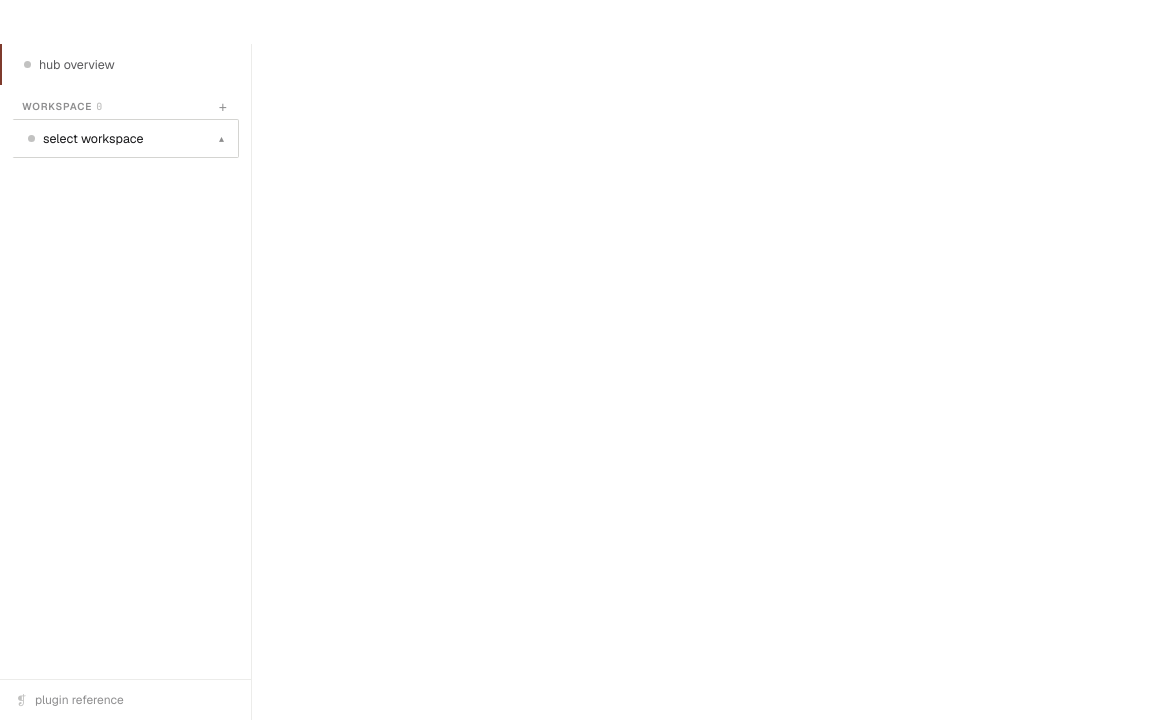
Scenario: SPEC-ui-008 — attach workspace modal dialog › SPEC-ui-008: clicking the + button opens a modal dialog titled "Attach workspace"
This screenshot has width=1152, height=720.
Click the button with class "sidenav-add" at (223, 107), box [217, 100, 229, 114]
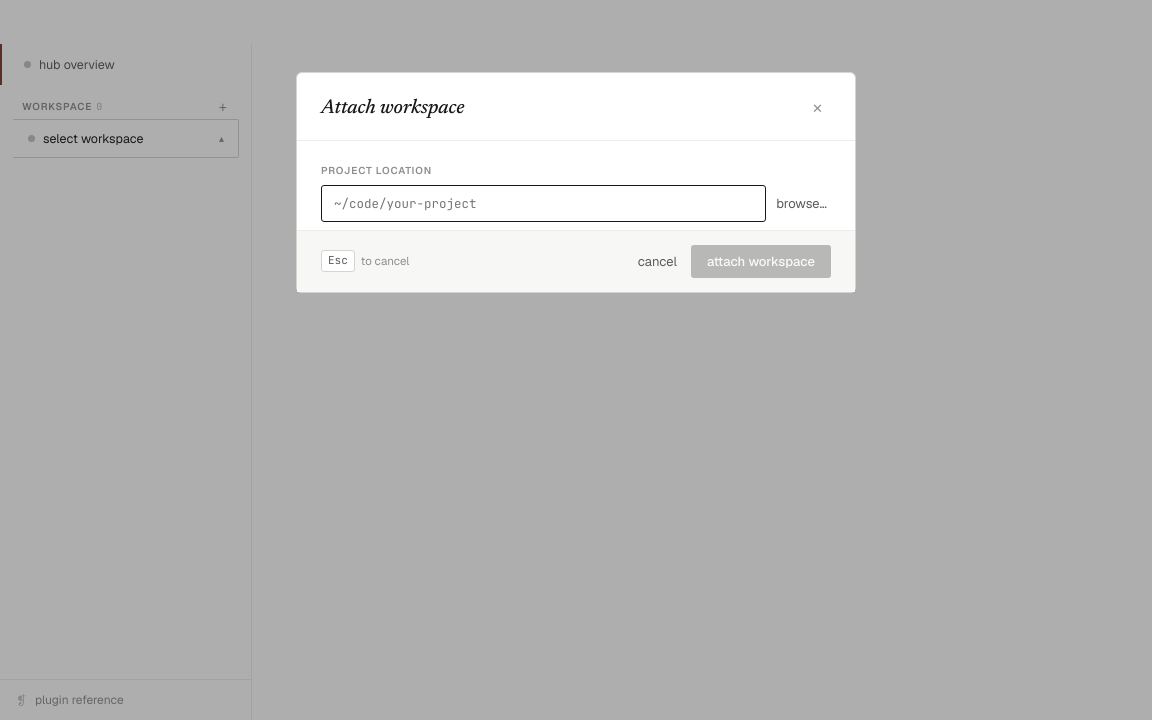
Expected: the heading with id "dlg-title" reads "Attach workspace", [321, 98, 464, 118]
Expected: the field with placeholder "~/code/your-project" is shown, [321, 184, 766, 222]
Expected: the button with class "dlg-browse" is shown, [772, 184, 831, 222]
